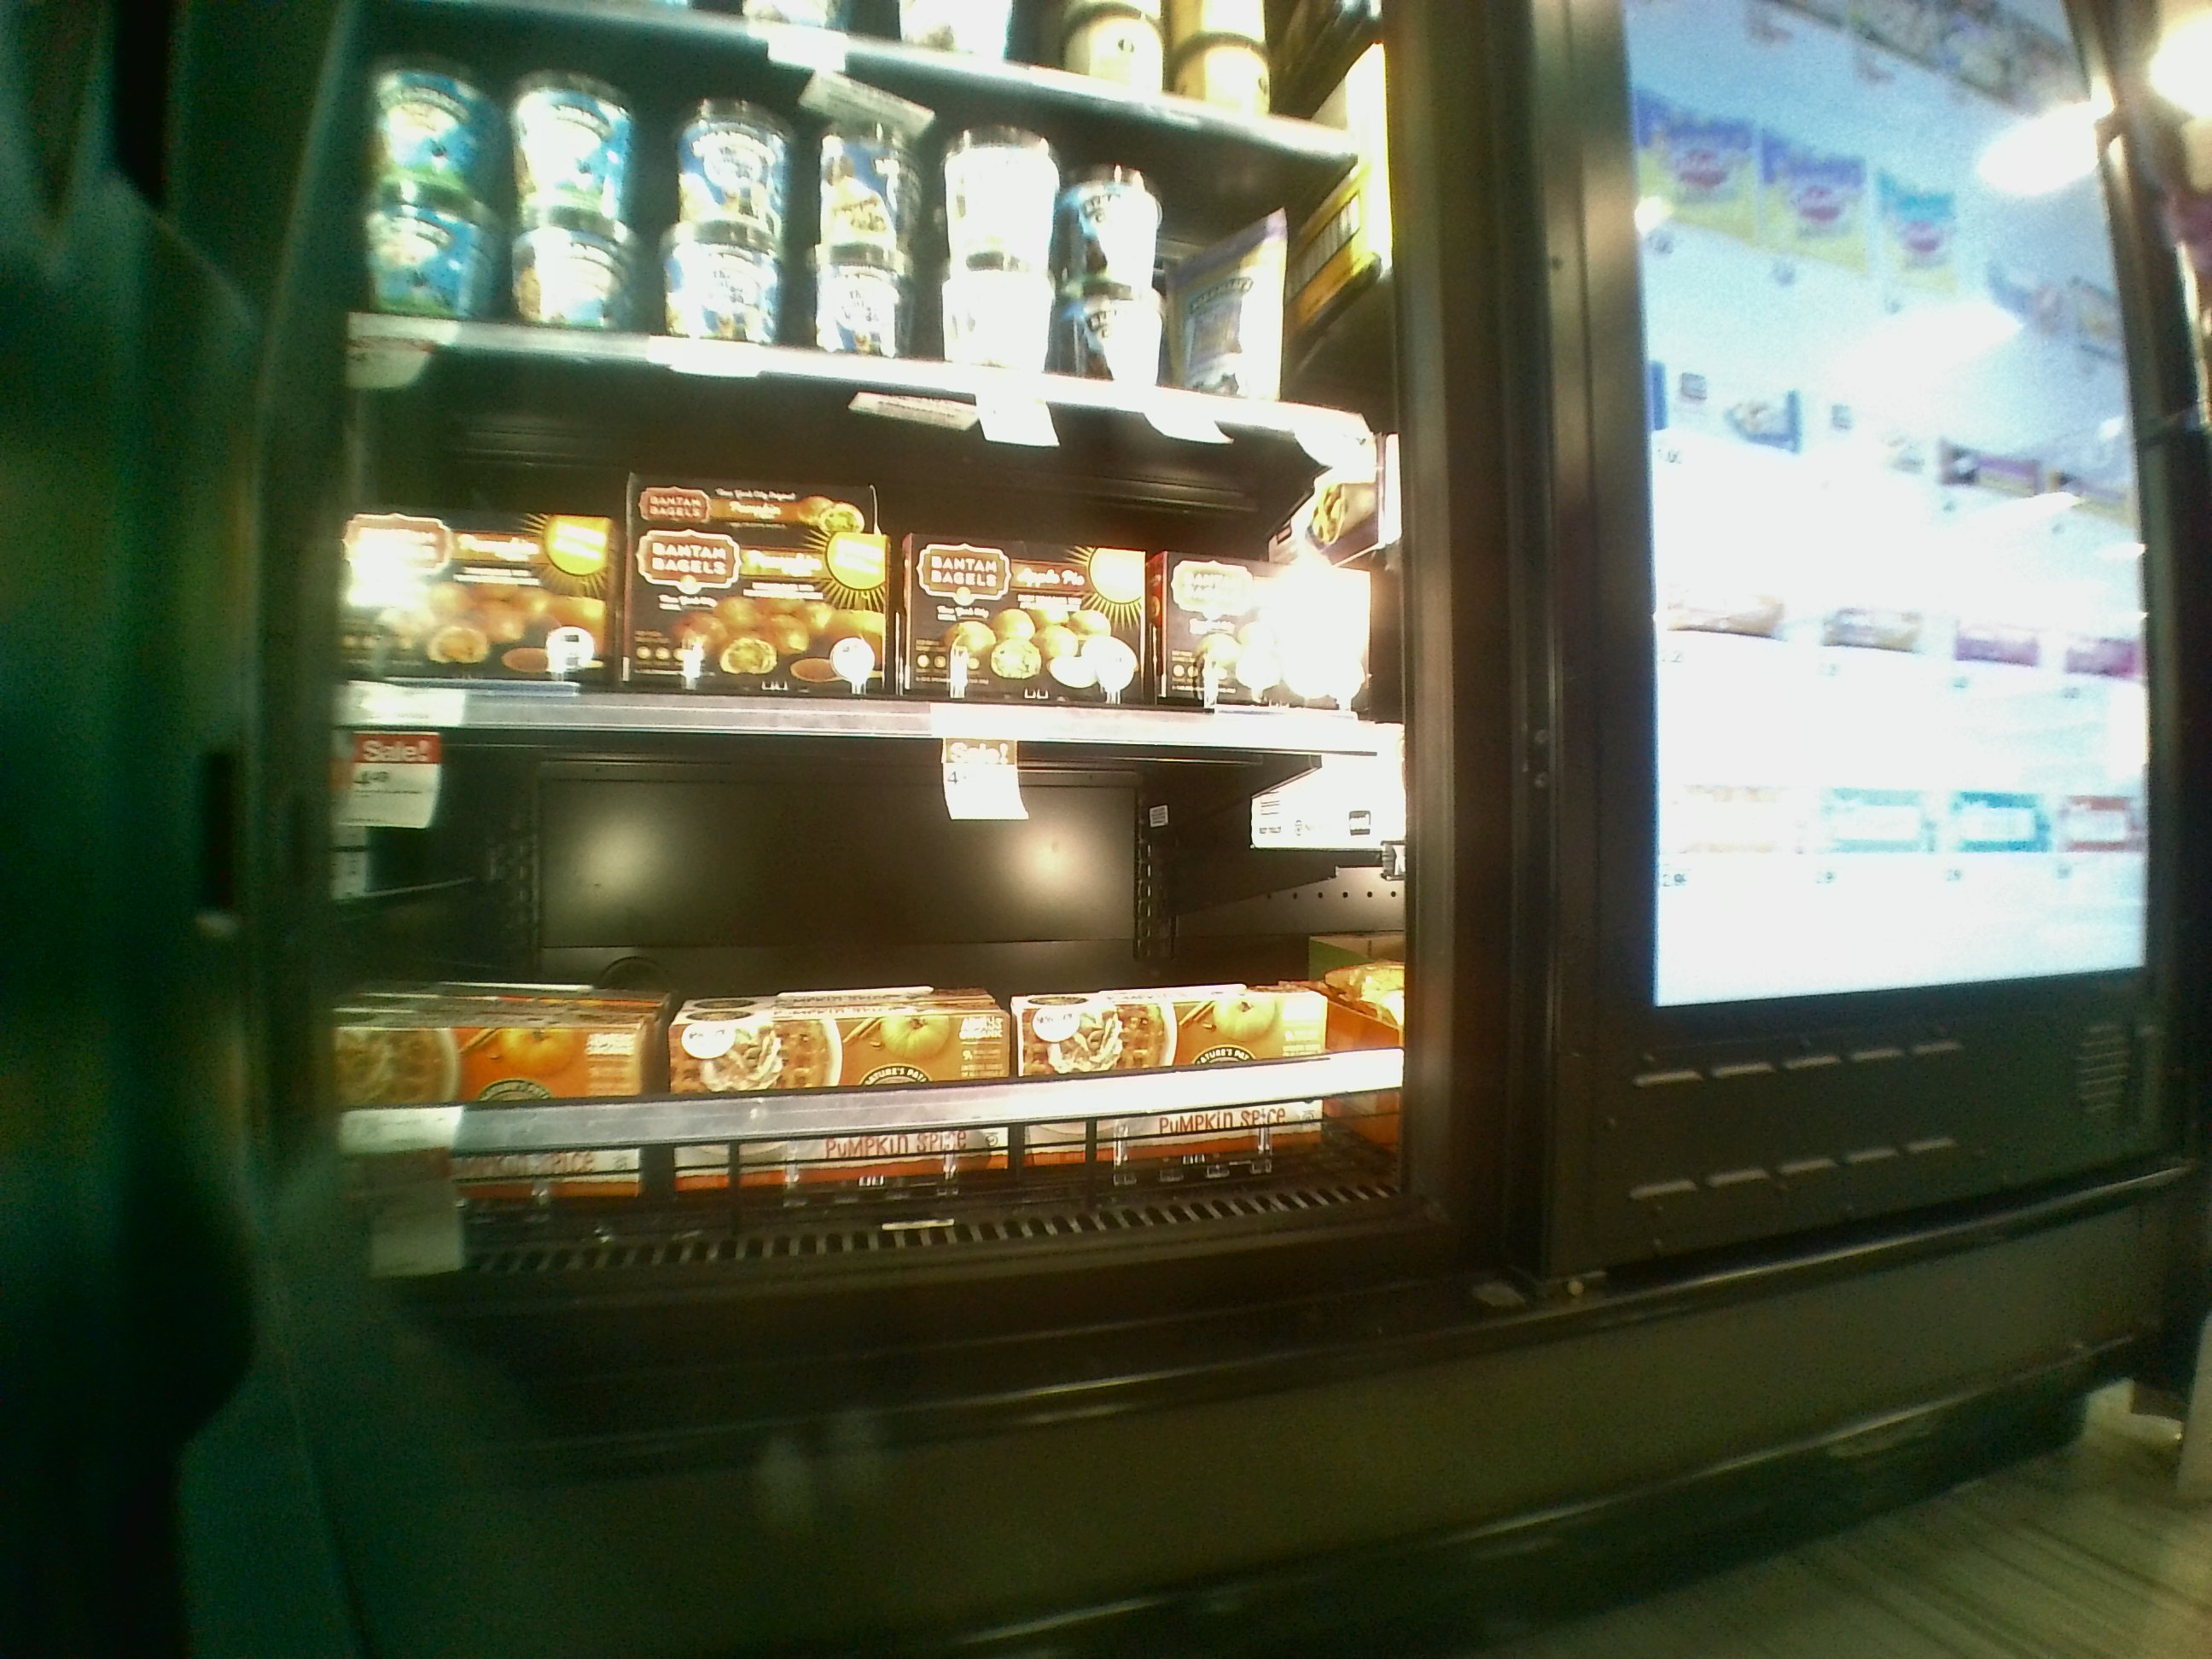shelf: (359, 727, 1426, 1270), (355, 349, 1407, 748)
